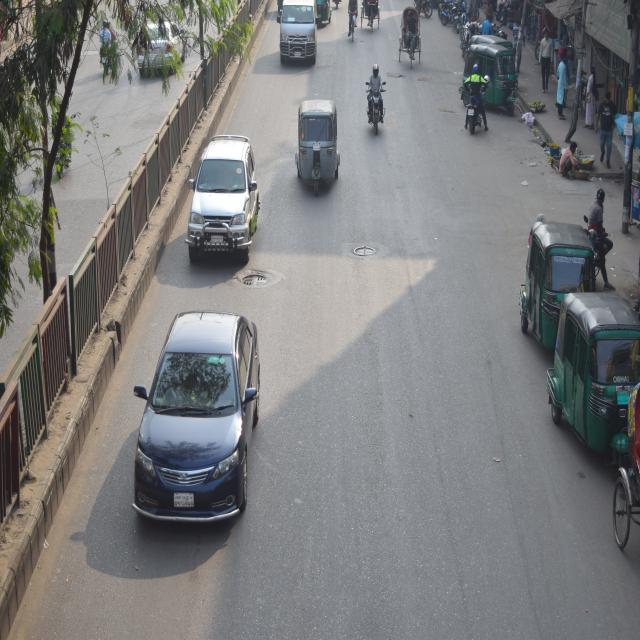car: (124, 298, 270, 536), (184, 134, 264, 271), (136, 13, 189, 80)
microbus: (274, 0, 320, 76)
motorbike: (457, 68, 488, 142), (586, 205, 620, 267), (362, 70, 389, 143), (435, 0, 473, 29)
